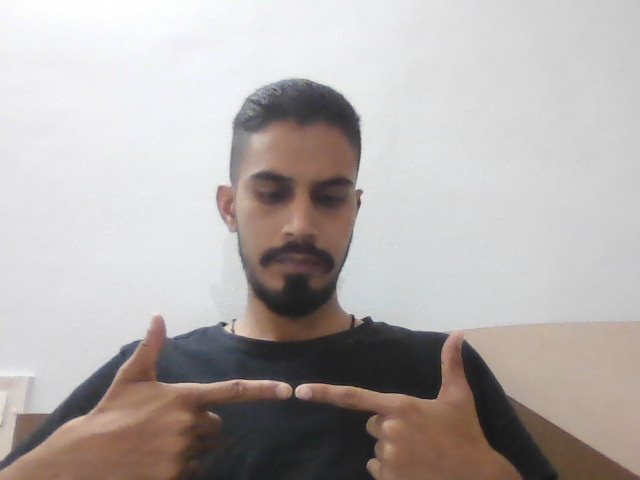Hurt: (107, 309, 485, 477)
